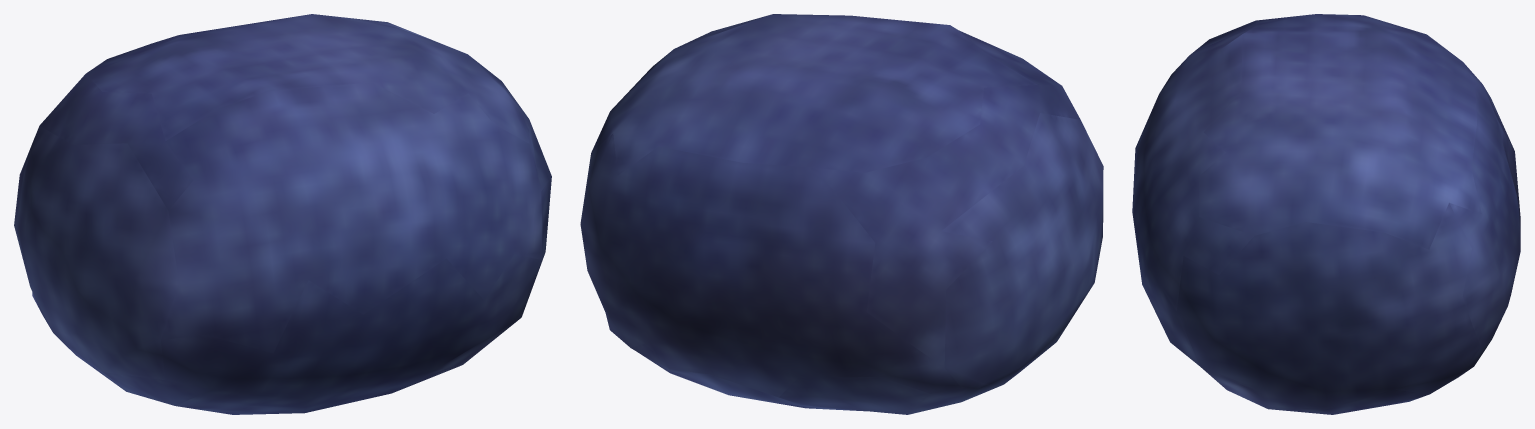
File: blueberry.glb
3 views of the same model, side by side, from view 1: azimuth 30°, elevation 25°; view 2: azimuth 150°, elevation 25°; view 3: azimuth 270°, elevation 25° (orthographic). The views are drawn at different scales.
Visible parts, largest first — view 1: part_0_body.010_10.001; view 2: part_0_body.010_10.001; view 3: part_0_body.010_10.001.
Boxes of the visible parts, box(x1,y1,x2,y2) form: part_0_body.010_10.001: box(14, 14, 551, 414); part_0_body.010_10.001: box(580, 14, 1103, 414); part_0_body.010_10.001: box(1132, 14, 1520, 414).
Bounding box in the file's own units: 0.0571 × 0.0417 × 0.0478.
2 materials, 2 textured.
